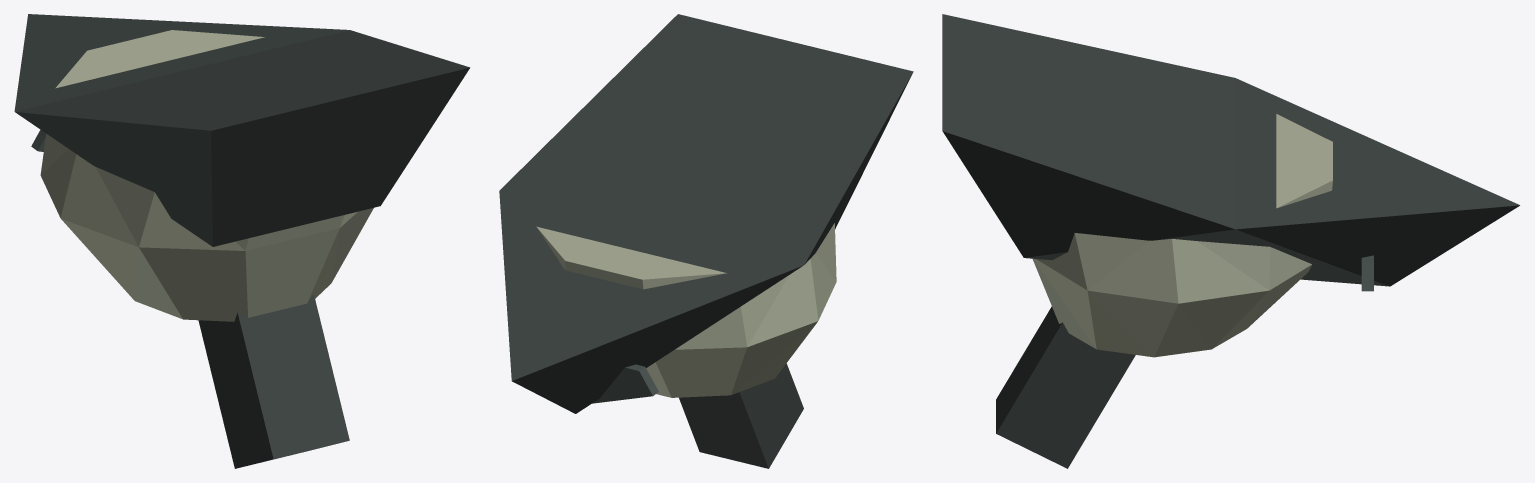
Rendered from scyther_head.obj.
The picture shows the model from 3 angles, left to right: view 1: azimuth 30°, elevation 25°; view 2: azimuth 150°, elevation 25°; view 3: azimuth 270°, elevation 25°; orthographic projection. The views are drawn at different scales.
Visible parts, largest first — view 1: scyther_head; view 2: scyther_head; view 3: scyther_head.
Boxes of the visible parts, box(x1,y1,x2,y2) form: scyther_head: box(14, 14, 470, 468); scyther_head: box(499, 14, 913, 468); scyther_head: box(942, 14, 1519, 468).
Bounding box in the file's own units: 0.44 × 0.5138 × 0.71.
